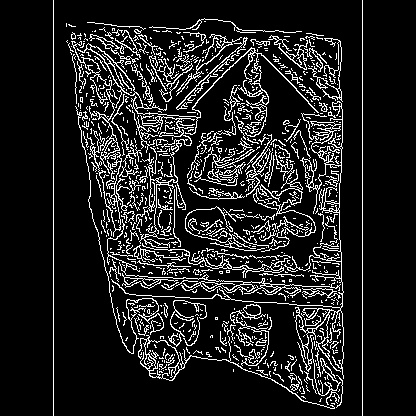buddha-sitting: (118, 160, 250, 206)
